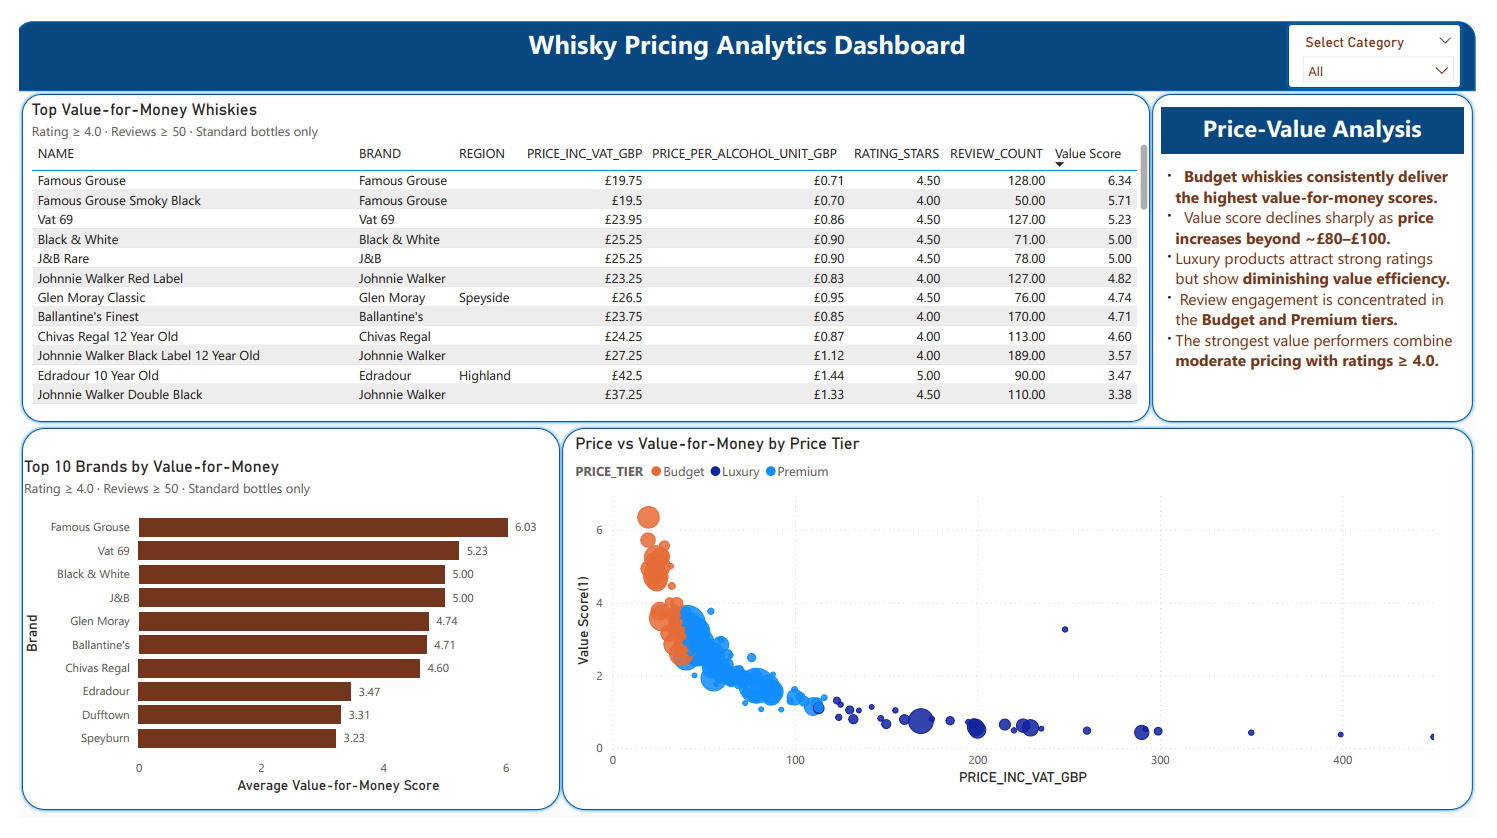

The page's visual inventory and layout, read from the dashboard file:
{"tool":"powerbi","page":{"name":"Value, Discounts & Consumer Behavior","canvas":[1500,820],"ordinal":1},"visuals":[{"type":"shape","box":[-4,0,1504,64],"z":0},{"type":"textbox","box":[512,0,480,48],"z":1000},{"type":"shape","box":[556,416,944,400],"z":2000},{"type":"shape","box":[0,64,1168,352],"z":3000},{"type":"shape","box":[0,416,560,400],"z":4000},{"type":"tableEx","title":"Top Value-for-Money Whiskies","fields":{"Values":["VW_PRODUCT_LATEST.NAME","VW_PRODUCT_LATEST.BRAND","VW_PRODUCT_LATEST.REGION","VW_PRODUCT_LATEST.PRICE_INC_VAT_GBP","VW_PRODUCT_LATEST.PRICE_PER_ALCOHOL_UNIT_GBP","VW_PRODUCT_LATEST.RATING_STARS","VW_PRODUCT_LATEST.REVIEW_COUNT","_Measures.Value Score"]},"box":[8,80,1160,320],"z":5000},{"type":"clusteredBarChart","title":"Top 10 Brands by Value-for-Money","fields":{"Category":["VW_PRODUCT_LATEST.BRAND"],"Y":["_Measures.Avg Value Score"]},"box":[0,448,544,352],"z":6000},{"type":"scatterChart","title":"Price vs Value-for-Money by Price Tier","fields":{"X":["VW_PRODUCT_LATEST.PRICE_INC_VAT_GBP"],"Y":["VW_PRODUCT_LATEST.Value Score(1)"],"Size":["Sum(VW_PRODUCT_LATEST.REVIEW_COUNT)"],"Series":["VW_PRODUCT_LATEST.PRICE_TIER"]},"box":[568,424,904,368],"z":7000},{"type":"shape","box":[1164,64,336,352],"z":8000},{"type":"textbox","box":[1176,80,312,48],"z":8001},{"type":"textbox","box":[1176,128,312,272],"z":8002}]}

Visuals, with their boxes in screenshot pixels (x1, y1, x2, y2), scaled from the page's 1500x820 canvas onto the 1497x838 screenshot:
shape: {"x1": 0, "y1": 0, "x2": 1496, "y2": 65}
textbox: {"x1": 511, "y1": 0, "x2": 990, "y2": 49}
shape: {"x1": 555, "y1": 425, "x2": 1496, "y2": 834}
shape: {"x1": 0, "y1": 65, "x2": 1166, "y2": 425}
shape: {"x1": 0, "y1": 425, "x2": 559, "y2": 834}
"Top Value-for-Money Whiskies" tableEx: {"x1": 8, "y1": 82, "x2": 1166, "y2": 409}
"Top 10 Brands by Value-for-Money" clusteredBarChart: {"x1": 0, "y1": 458, "x2": 543, "y2": 818}
"Price vs Value-for-Money by Price Tier" scatterChart: {"x1": 567, "y1": 433, "x2": 1469, "y2": 809}
shape: {"x1": 1162, "y1": 65, "x2": 1496, "y2": 425}
textbox: {"x1": 1174, "y1": 82, "x2": 1485, "y2": 131}
textbox: {"x1": 1174, "y1": 131, "x2": 1485, "y2": 409}
